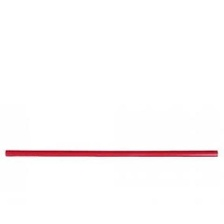drinking_straw: (1, 144, 221, 162)
